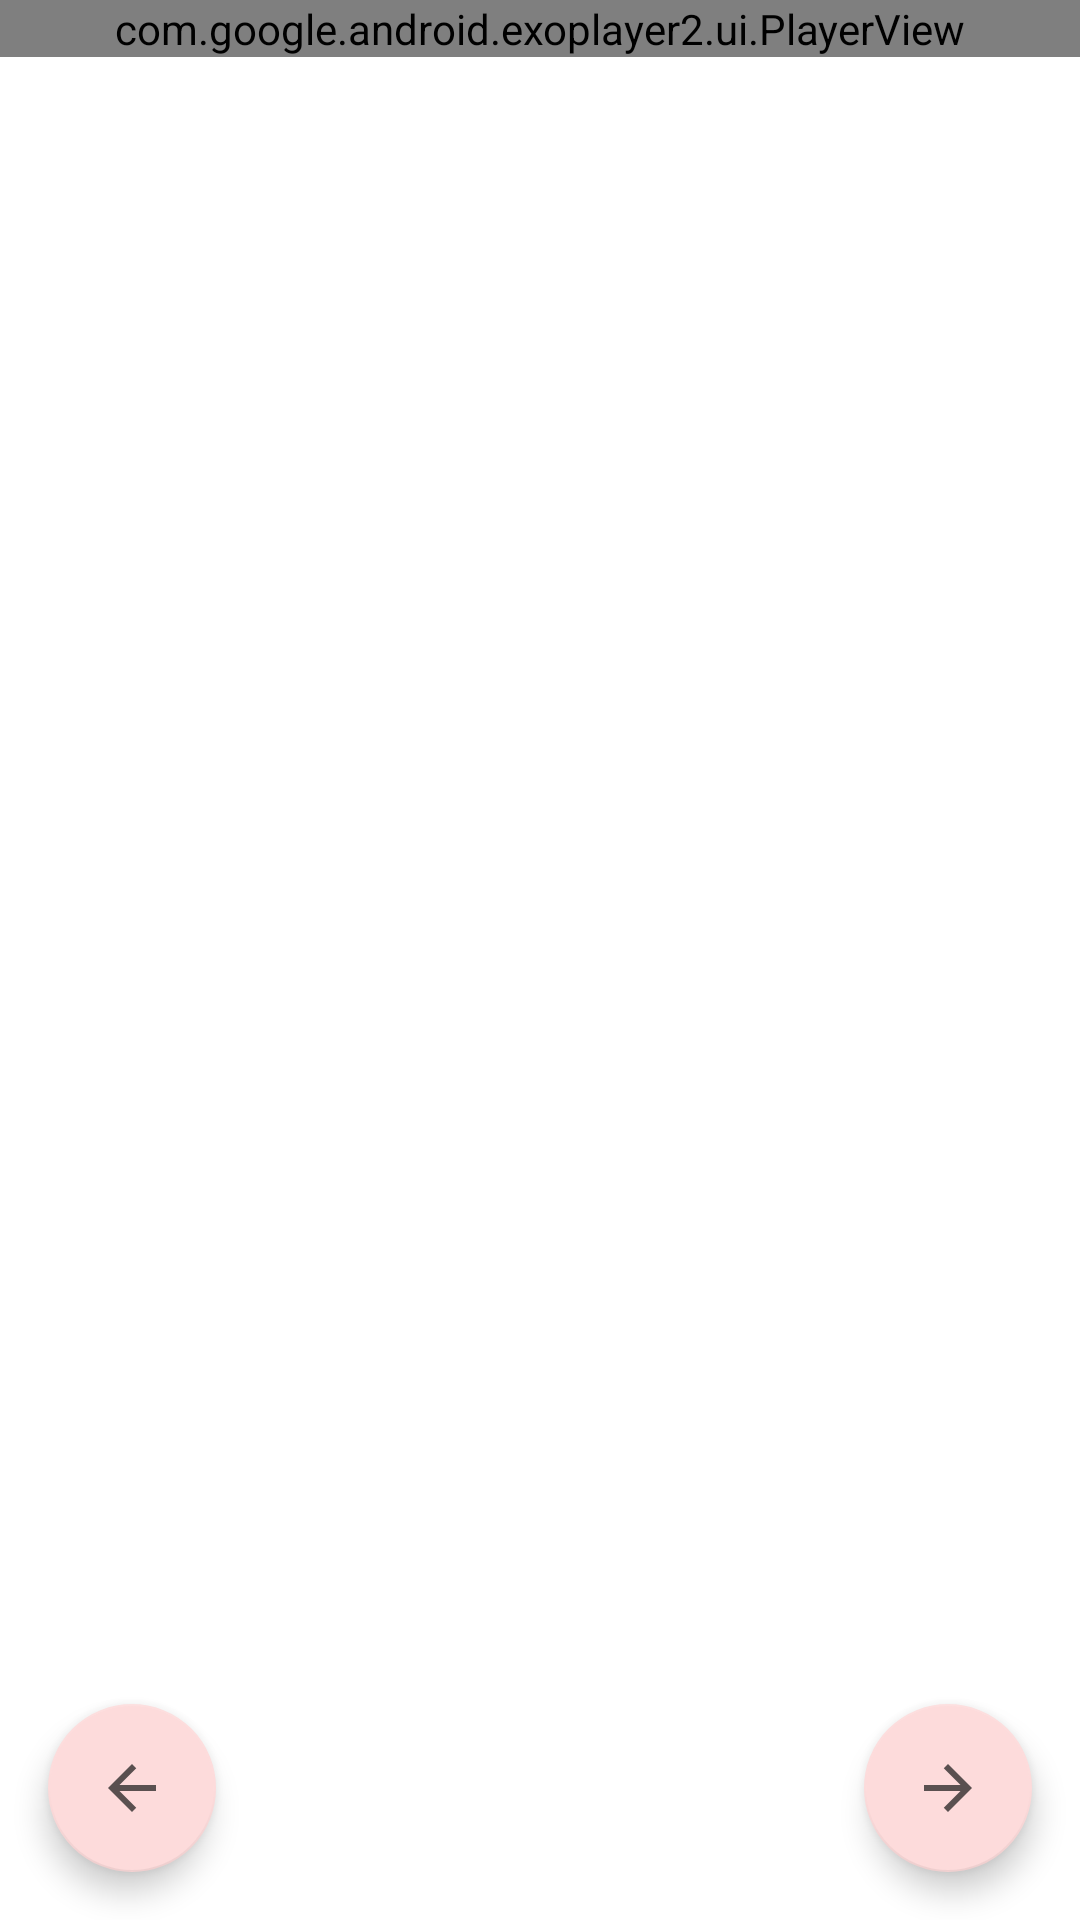

Locate icon controls on the screen. Image size 1080px×1920px, boxes as {"left": x1, "top": y1, "right": x2, "bottom": y2}.
arrow next: {"left": 864, "top": 1704, "right": 1032, "bottom": 1872}
arrow previous: {"left": 48, "top": 1704, "right": 216, "bottom": 1872}
